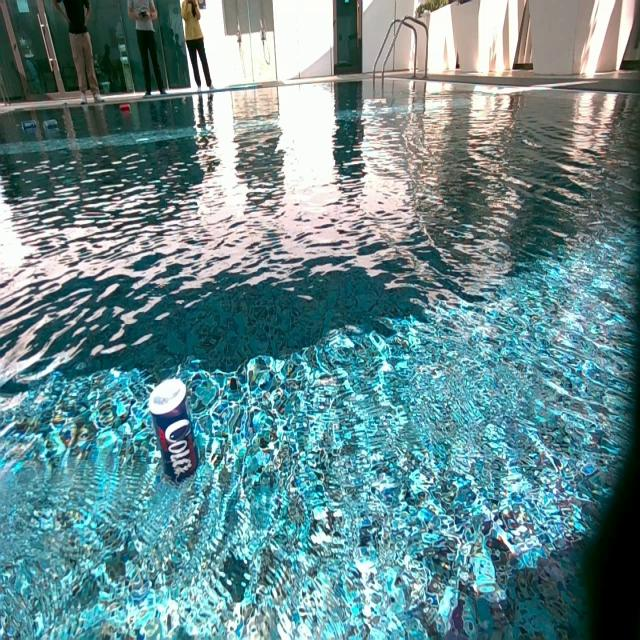Cans: (152, 376, 203, 482), (22, 119, 36, 131), (44, 118, 57, 130), (119, 105, 130, 115)
